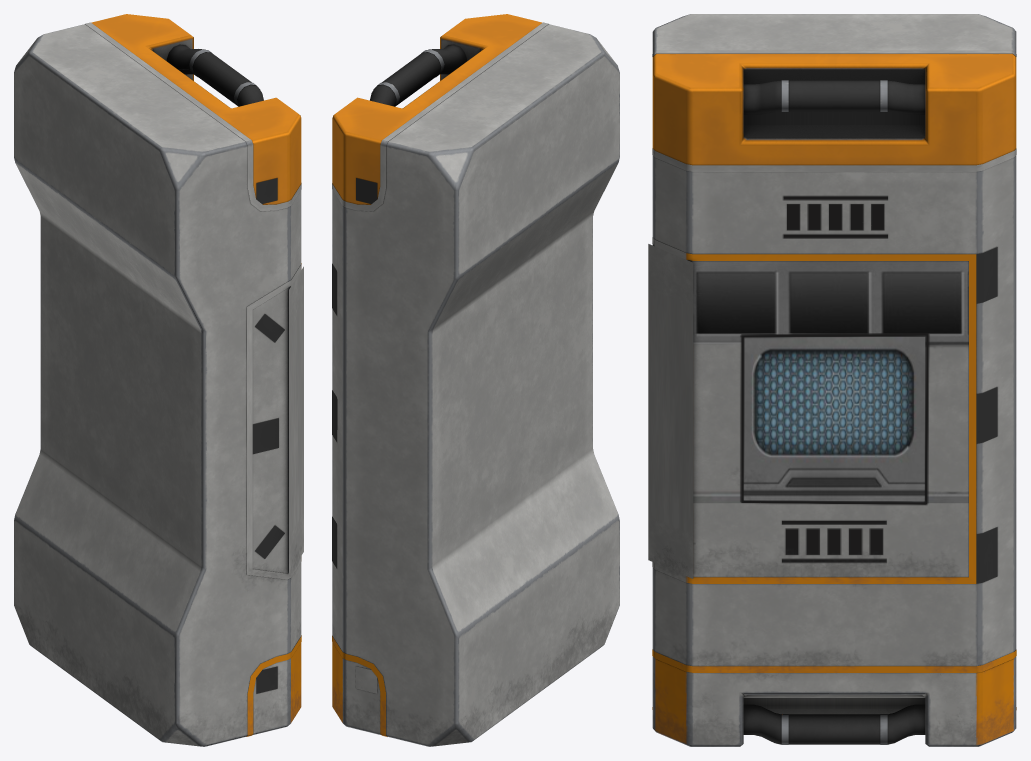
The model's file is SciFiBox.fbx.
3 renders of one model, left to right at view 1: azimuth 30°, elevation 25°; view 2: azimuth 150°, elevation 25°; view 3: azimuth 270°, elevation 25°, orthographic. The views are drawn at different scales.
Visible parts, largest first — view 1: SciFiBox; view 2: SciFiBox; view 3: SciFiBox.
Boxes of the visible parts, <box> form: SciFiBox: <box>14,14,303,746</box>; SciFiBox: <box>332,14,619,746</box>; SciFiBox: <box>648,14,1016,746</box>.
Size of the model in its own units: 66.68 by 261 by 132.
